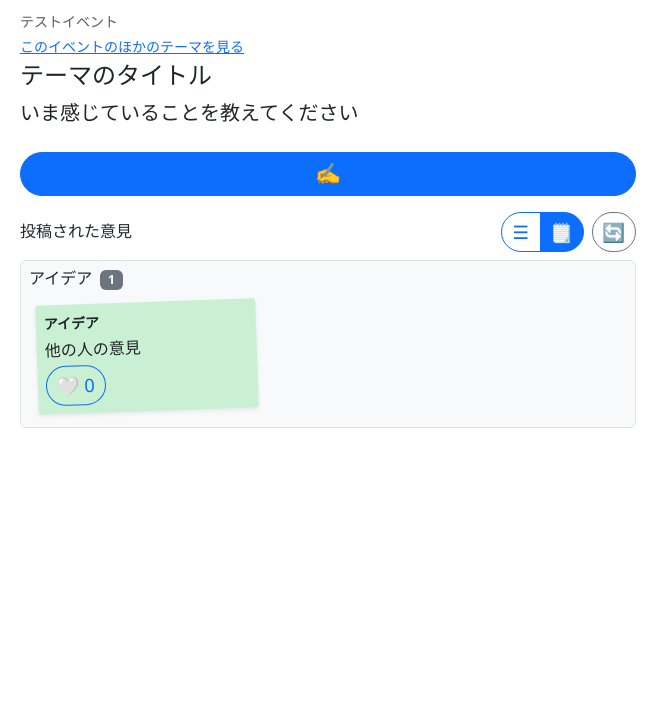
Test: 参加者の画面 › 自分の投稿にだけ、編集と削除の操作を出す(一覧で)
This screenshot has width=657, height=727.
Click the link named "意見を投稿する" at (328, 174), box [20,152,636,196]
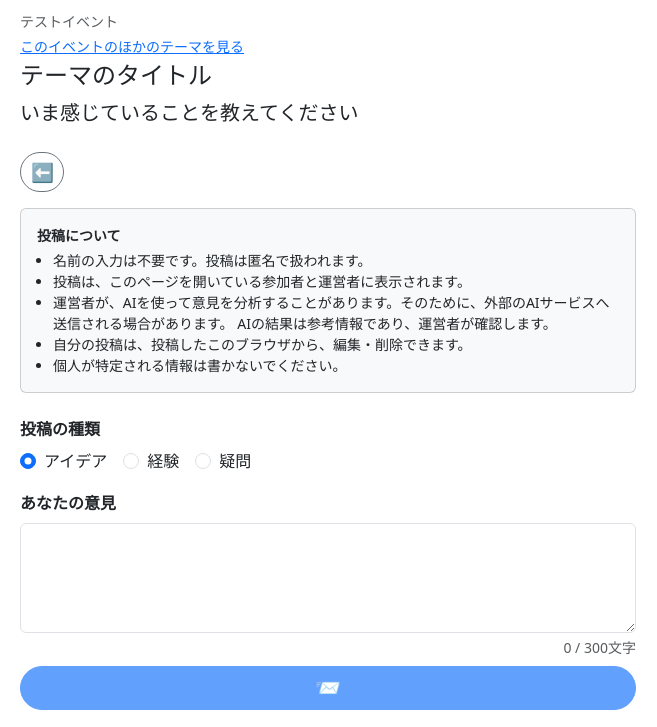
Type "私の意見です" into the text box labelled "あなたの意見" at (328, 578), box [20,523,636,633]
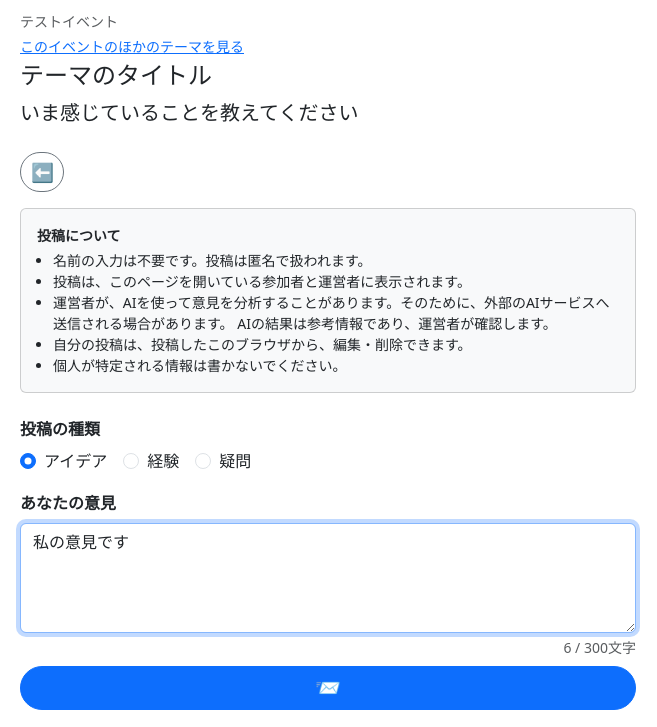
Click the button named "投稿する" at (328, 688), box [20,666,636,710]
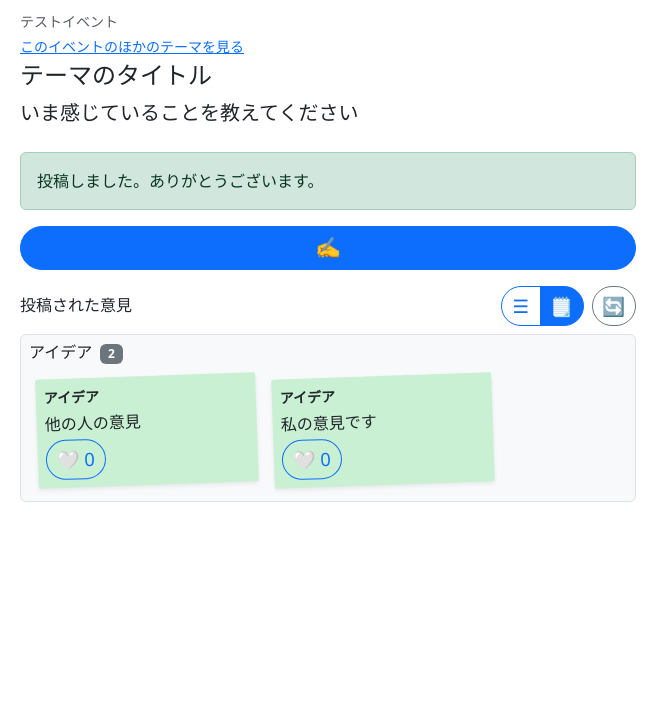
Check: the text "私の意見です" is shown, box [280,410,377,436]
Click the button named "一覧" at (521, 306), box [501,286,541,326]
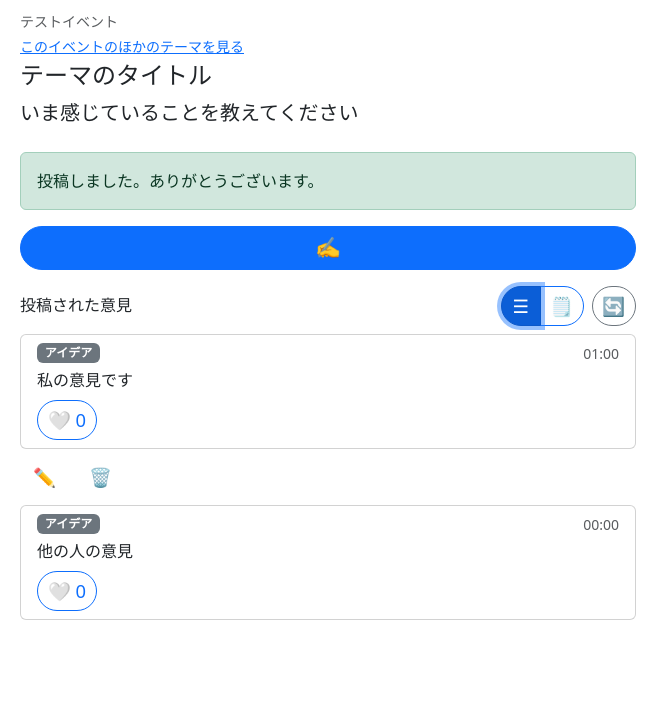
Check: the number of buttons named "編集する" is 1, box [24,457,64,497]
Check: the number of buttons named "削除する" is 1, box [80,457,120,497]
